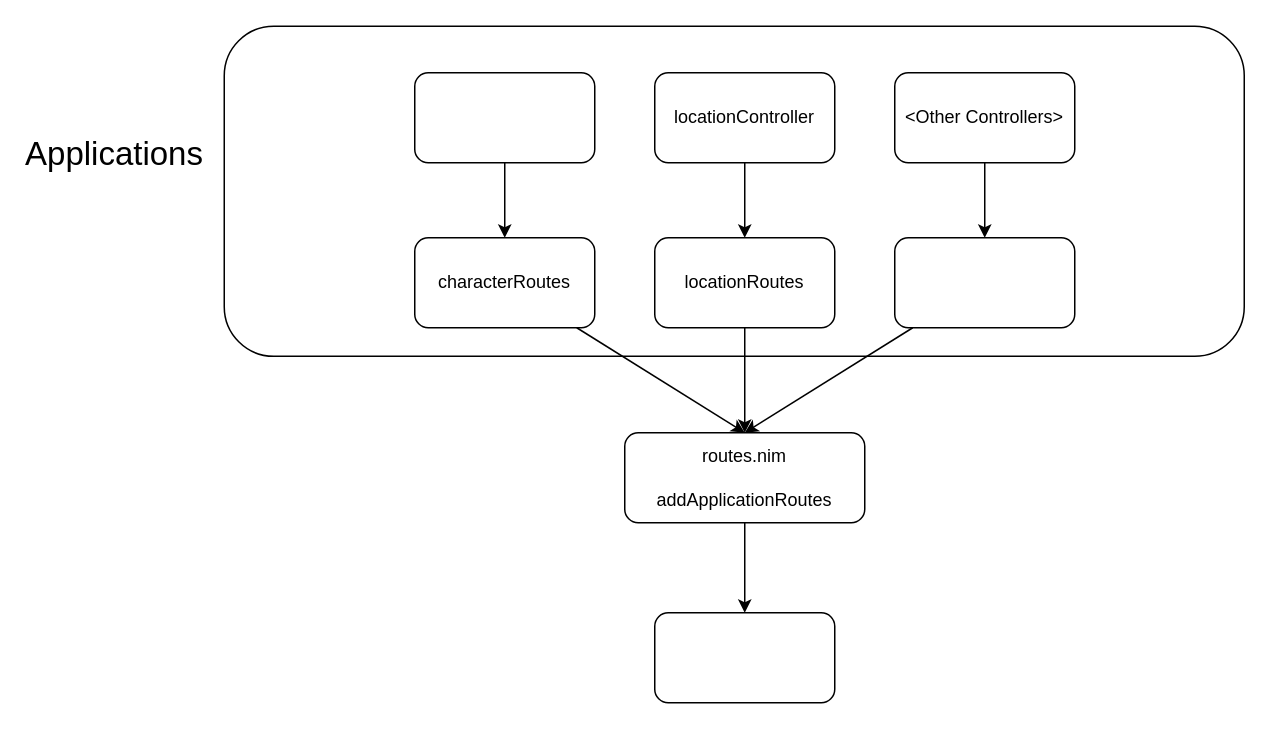
The diagram is 1271 pixels wide and 729 high, and some of its shapes have lost their labels. The centre of each missing label's shape, as x and y in pixels:
"<Other Routes>" goes at point (984, 282).
"characterController" goes at point (504, 117).
"nimstoryfont.nim" goes at point (744, 657).
